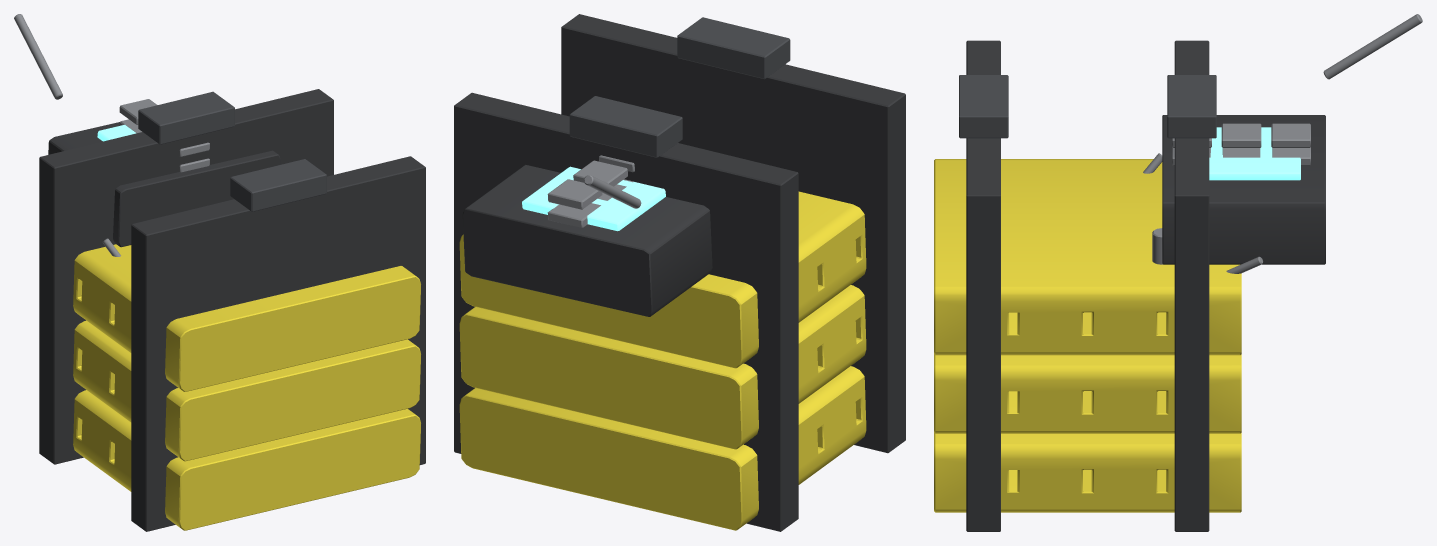
Rendered from EX_explosive_timed.fbx.
The picture shows the model from 3 angles, left to right: view 1: azimuth 30°, elevation 25°; view 2: azimuth 150°, elevation 25°; view 3: azimuth 270°, elevation 25°; orthographic projection. The views are drawn at different scales.
Parts seen in each view (by area): view 1: EX_explosive_timed; view 2: EX_explosive_timed; view 3: EX_explosive_timed.
Part boxes in pixels (bbox=[...]): EX_explosive_timed: bbox=[14, 14, 425, 531]; EX_explosive_timed: bbox=[454, 14, 905, 531]; EX_explosive_timed: bbox=[934, 14, 1422, 531].
Size of the model in its own units: 0.148 by 0.1791 by 0.1971.
